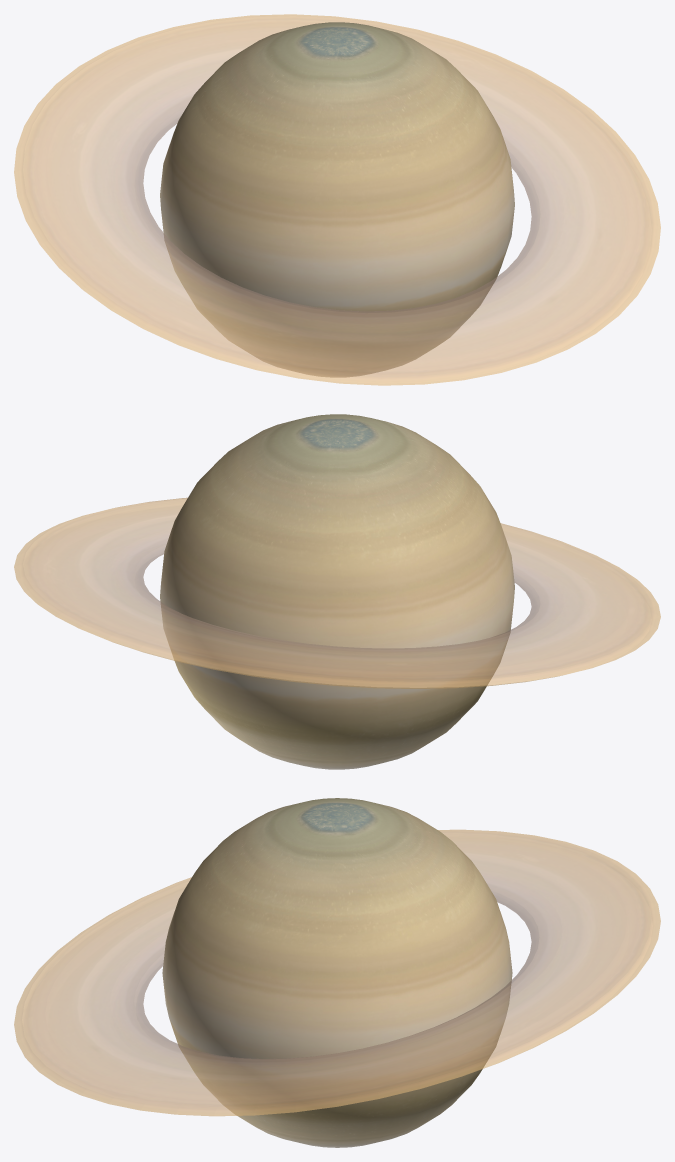
The model's file is saturno.glb.
The picture shows the model from 3 angles, top to bottom: view 1: azimuth 30°, elevation 25°; view 2: azimuth 150°, elevation 25°; view 3: azimuth 270°, elevation 25°; orthographic projection.
Parts seen in each view (by area): view 1: Torus; view 2: Torus; view 3: Torus.
Boxes of the visible parts, x1=… form: Torus: x1=14, y1=14, x2=660, y2=385; Torus: x1=14, y1=414, x2=660, y2=769; Torus: x1=14, y1=798, x2=660, y2=1147.
Bounding box in the file's own units: 2.81 × 1.55 × 2.87.
2 materials, 2 textured.
